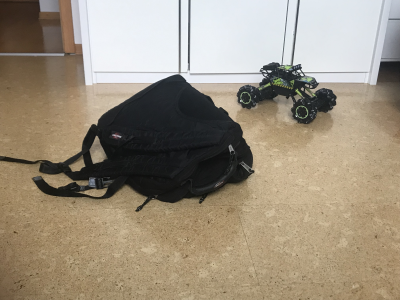remote control car: (234, 59, 339, 123)
